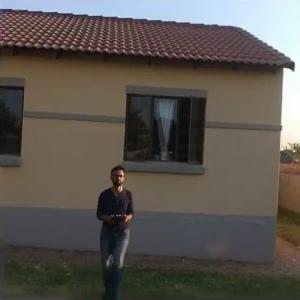follow: (92, 170, 142, 298)
